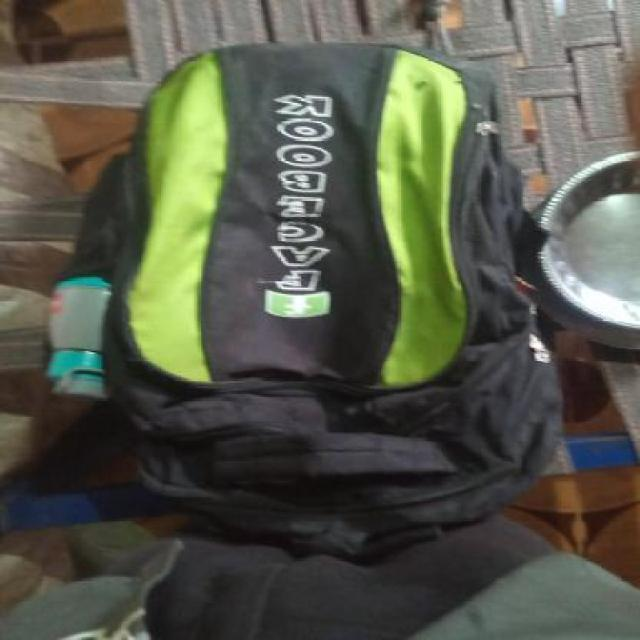backpack: (43, 39, 574, 572)
